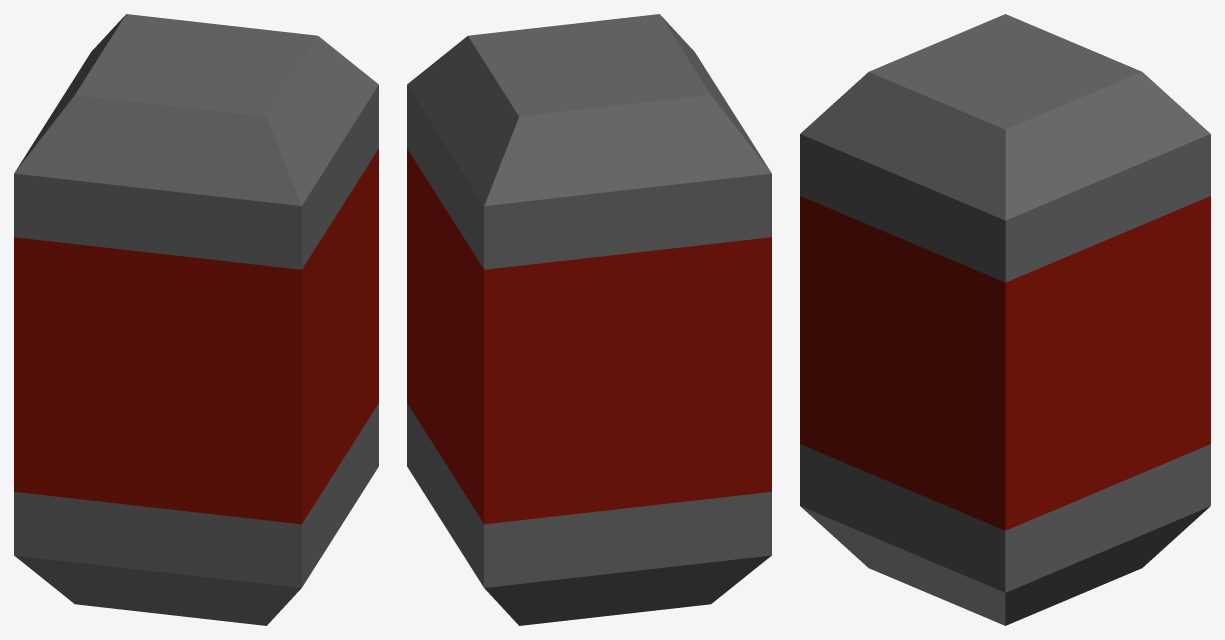
The model's file is rc_can.fbx.
3 renders of one model, left to right at view 1: azimuth 30°, elevation 25°; view 2: azimuth 150°, elevation 25°; view 3: azimuth 270°, elevation 25°, orthographic. The views are drawn at different scales.
Visible parts, largest first — view 1: rc_can; view 2: rc_can; view 3: rc_can.
Boxes of the visible parts, <box> form: rc_can: <box>14,14,378,625</box>; rc_can: <box>407,14,771,625</box>; rc_can: <box>800,14,1210,625</box>.
Bounding box in the file's own units: 300 × 400 × 300.
